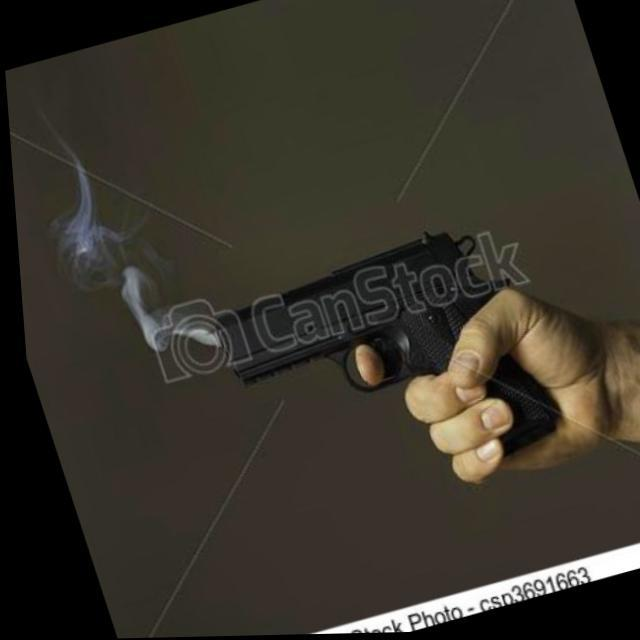weapon: (153, 208, 572, 537)
